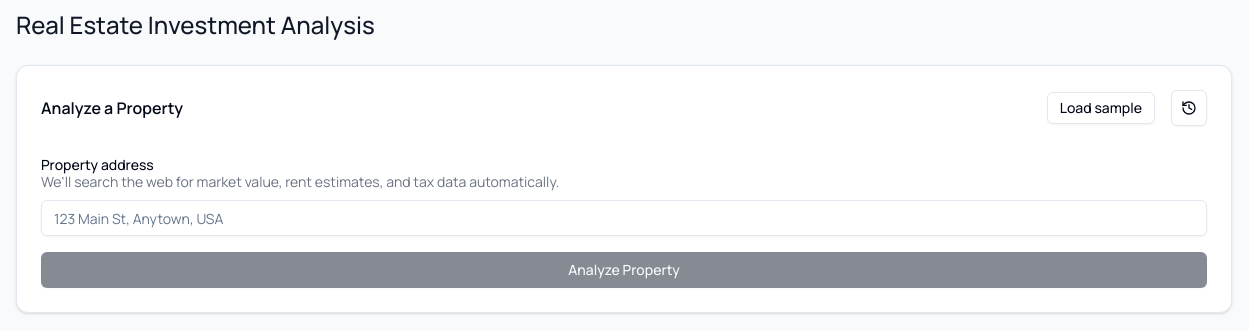
it: Real Estate Investment Analysis page › fills the field with sample data when "Load sample" is clicked
The image size is (1249, 331).
What coordinates should you click on to do the following:
click the button "Load sample"
I would click on:
 (1101, 108)
Its box is [1047,92,1155,124].
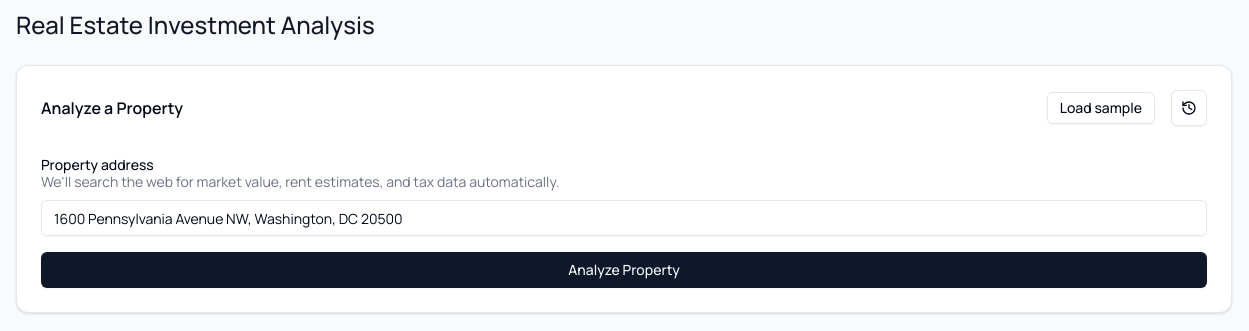
Result: the field labelled "Property address" holds "1600 Pennsylvania Avenue NW, Washington, DC 20500" at [41,200,1207,236]
Result: the button "Analyze Property" is enabled at [41,252,1207,288]
